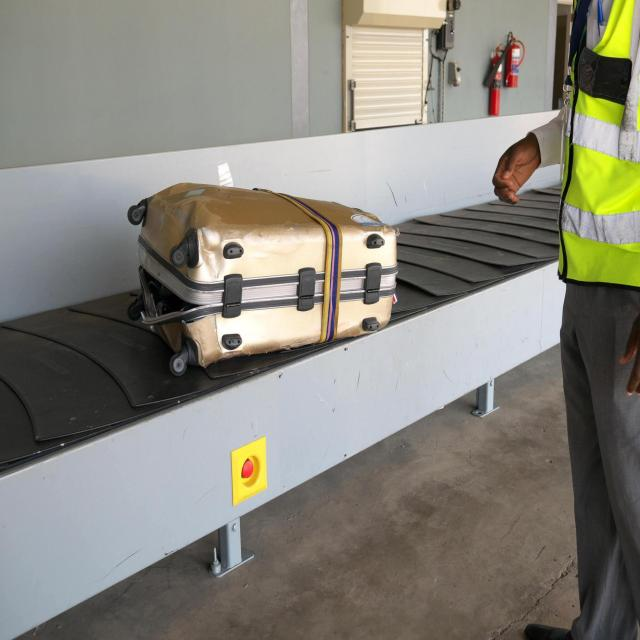Damage-bag: (139, 266, 221, 326), (178, 198, 226, 280)
